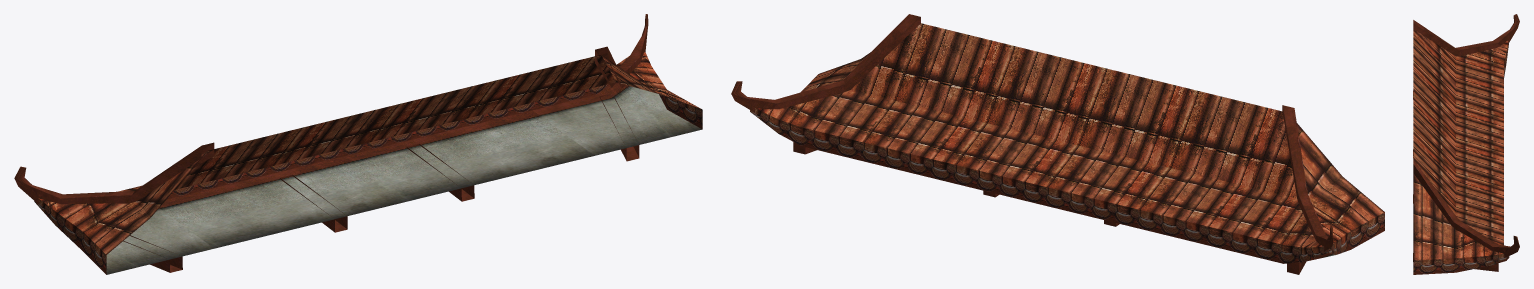
Rendered from roof_attachment_it_10m.fbx.
3 renders of one model, left to right at view 1: azimuth 30°, elevation 25°; view 2: azimuth 150°, elevation 25°; view 3: azimuth 270°, elevation 25°, orthographic. The views are drawn at different scales.
Parts seen in each view (by area): view 1: mesh_0, mesh_1, mesh_2, mesh_4, mesh_5, mesh_3; view 2: mesh_1, mesh_5, mesh_0, mesh_3, mesh_4, mesh_2; view 3: mesh_1, mesh_3, mesh_2, mesh_5, mesh_4.
Part boxes in pixels (left/top/right/bottom): mesh_0: left=159, top=102, right=594, bottom=248; mesh_1: left=185, top=56, right=594, bottom=187; mesh_2: left=532, top=14, right=702, bottom=161; mesh_4: left=14, top=142, right=214, bottom=274; mesh_5: left=39, top=149, right=213, bottom=254; mesh_3: left=566, top=51, right=701, bottom=109; mesh_1: left=862, top=23, right=1282, bottom=229; mesh_5: left=1223, top=112, right=1384, bottom=247; mesh_0: left=862, top=142, right=1223, bottom=248; mesh_3: left=755, top=24, right=920, bottom=141; mesh_4: left=1223, top=105, right=1384, bottom=274; mesh_2: left=731, top=14, right=920, bottom=160; mesh_1: left=1413, top=29, right=1503, bottom=221; mesh_3: left=1413, top=173, right=1504, bottom=260; mesh_2: left=1413, top=160, right=1519, bottom=274; mesh_5: left=1414, top=30, right=1508, bottom=86; mesh_4: left=1413, top=14, right=1519, bottom=99.
Size of the model in its own units: 1000 by 180 by 201.
Materials: 2 (2 with a texture image).
